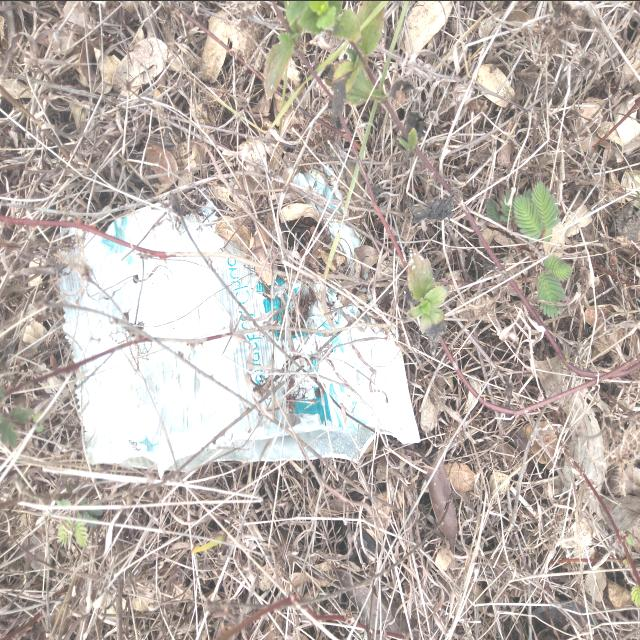Other plastic: (59, 160, 420, 472)
